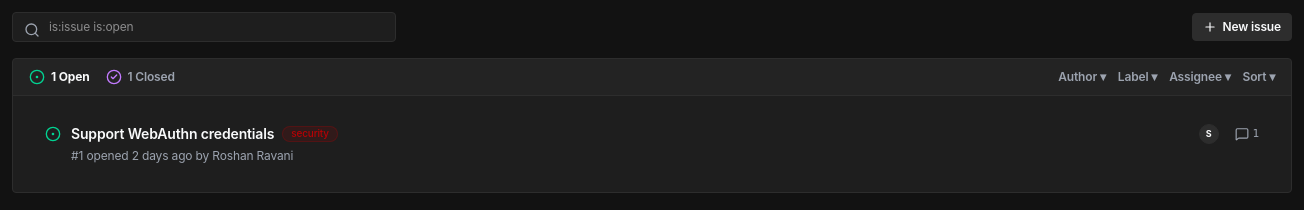
Scenario: IssuesView › renders issues list and allows filtering by open and closed status
The image size is (1304, 210).
Expected: the text "Support WebAuthn credentials" is shown, [71, 124, 274, 144]
Expected: the text "1 Open" is shown, [51, 69, 90, 85]
Switch to Closed filter
Click the button "1 Closed".
click(140, 77)  # box [106, 69, 175, 85]
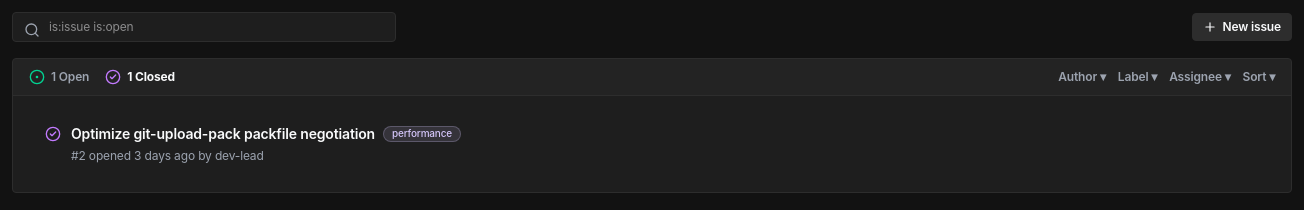
Now the text "Optimize git-upload-pack packfile negotiation" is shown, box [71, 124, 375, 144]
Now the text "Support WebAuthn credentials" is gone
